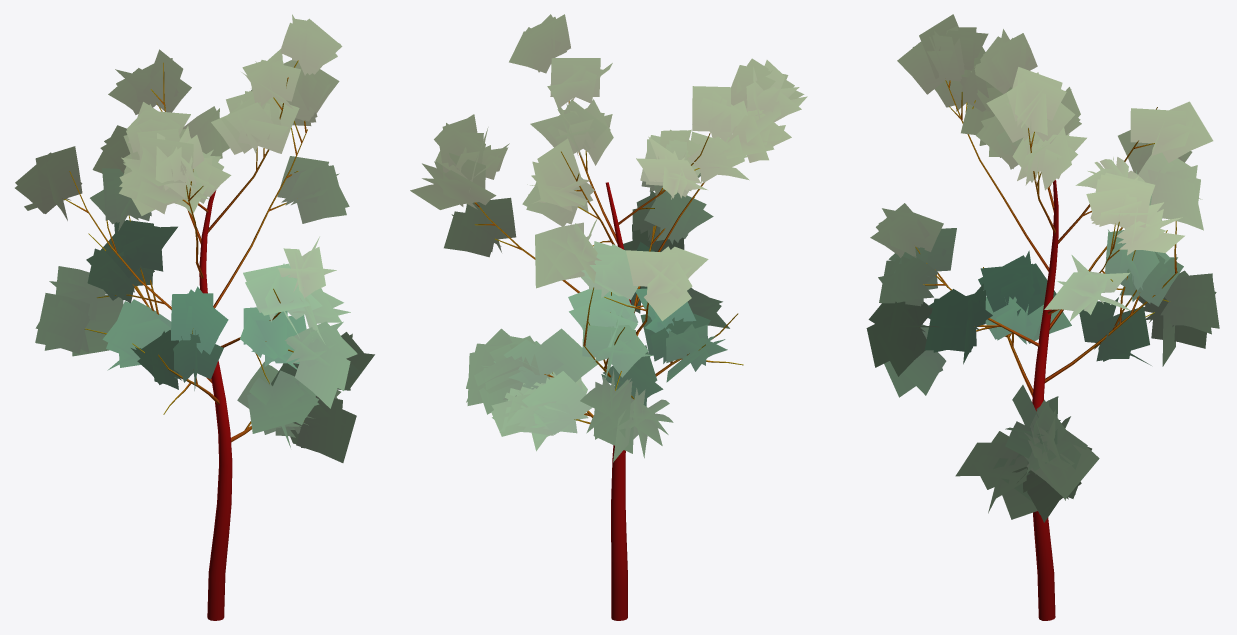
Rendered from young_oak.glb.
3 renders of one model, left to right at view 1: azimuth 30°, elevation 25°; view 2: azimuth 150°, elevation 25°; view 3: azimuth 270°, elevation 25°, orthographic.
Visible parts, largest first — view 1: LOD0; view 2: LOD0; view 3: LOD0.
Boxes of the visible parts, box(x1,y1,x2,y2) form: LOD0: box(15, 14, 374, 620); LOD0: box(410, 14, 807, 620); LOD0: box(866, 14, 1219, 620).
Size of what is drawn, in the model's own units: 4.4 by 7.85 by 4.7.
